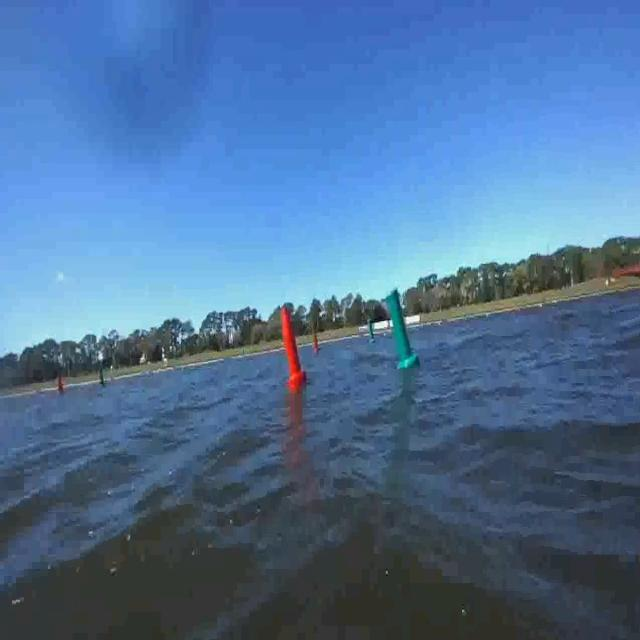green-column-buoy: (384, 290, 420, 370), (367, 317, 375, 341), (97, 364, 105, 387)
red-column-buoy: (278, 306, 305, 387), (313, 332, 320, 353), (59, 375, 66, 395)
